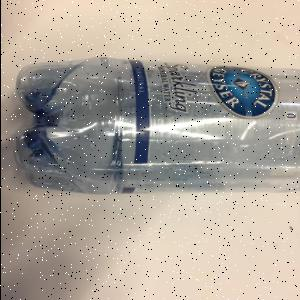Plastic-bottle: (14, 57, 300, 197)
